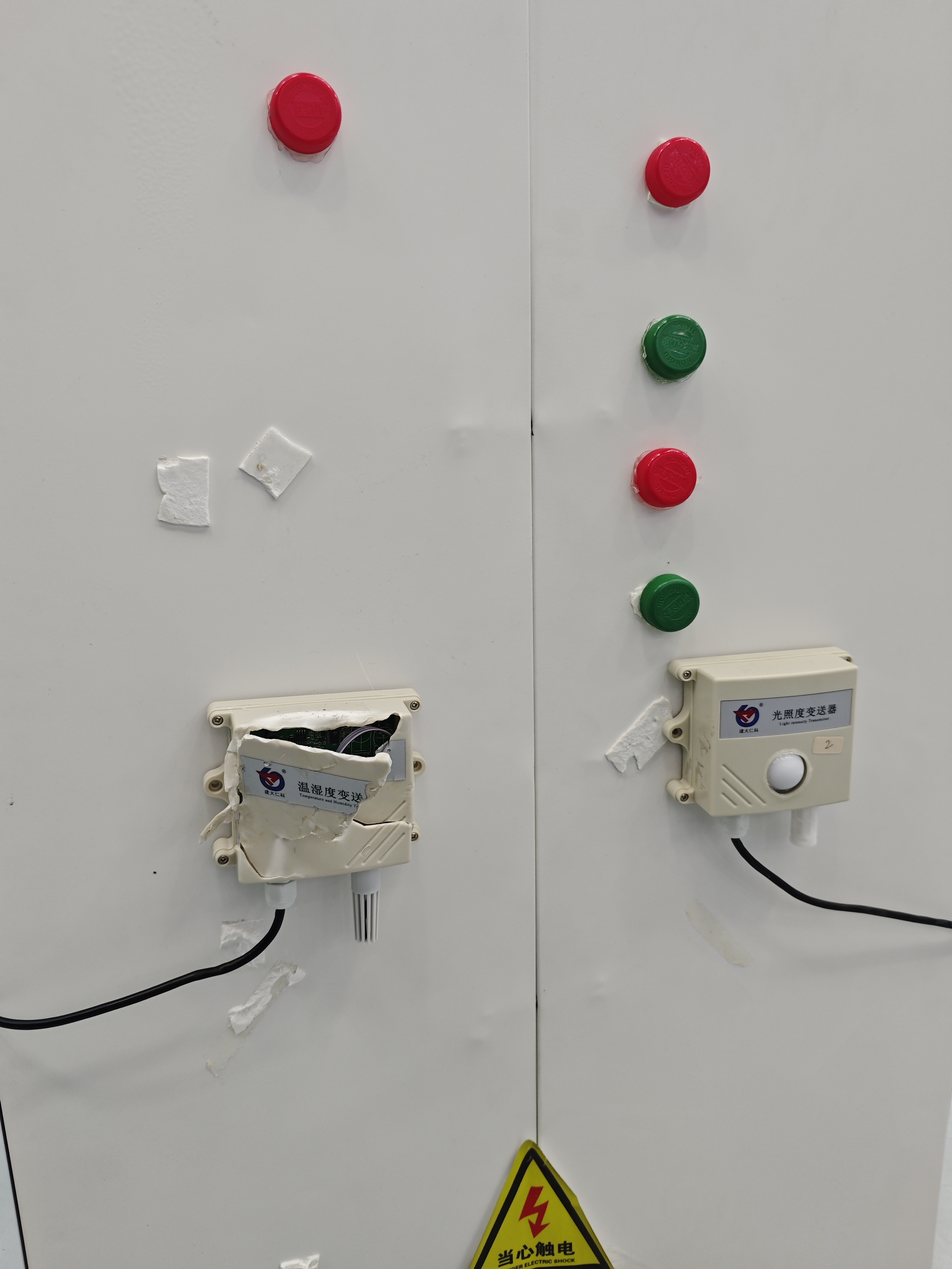red_warning: (236, 56, 381, 183), (624, 115, 727, 228), (598, 441, 743, 512)
sensor_damage: (178, 667, 469, 980)
